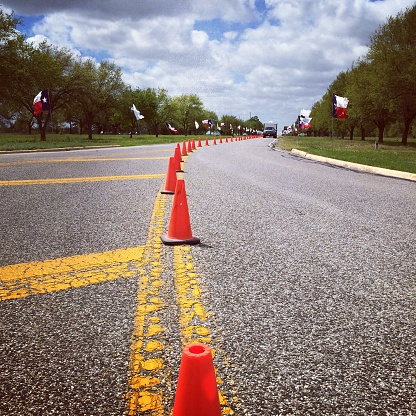trafficcone: (171, 343, 224, 416), (160, 180, 201, 245), (160, 157, 177, 193), (173, 148, 184, 172), (177, 143, 184, 162), (181, 142, 188, 156), (187, 140, 193, 152), (191, 139, 197, 150), (196, 138, 202, 147), (204, 137, 209, 146)
